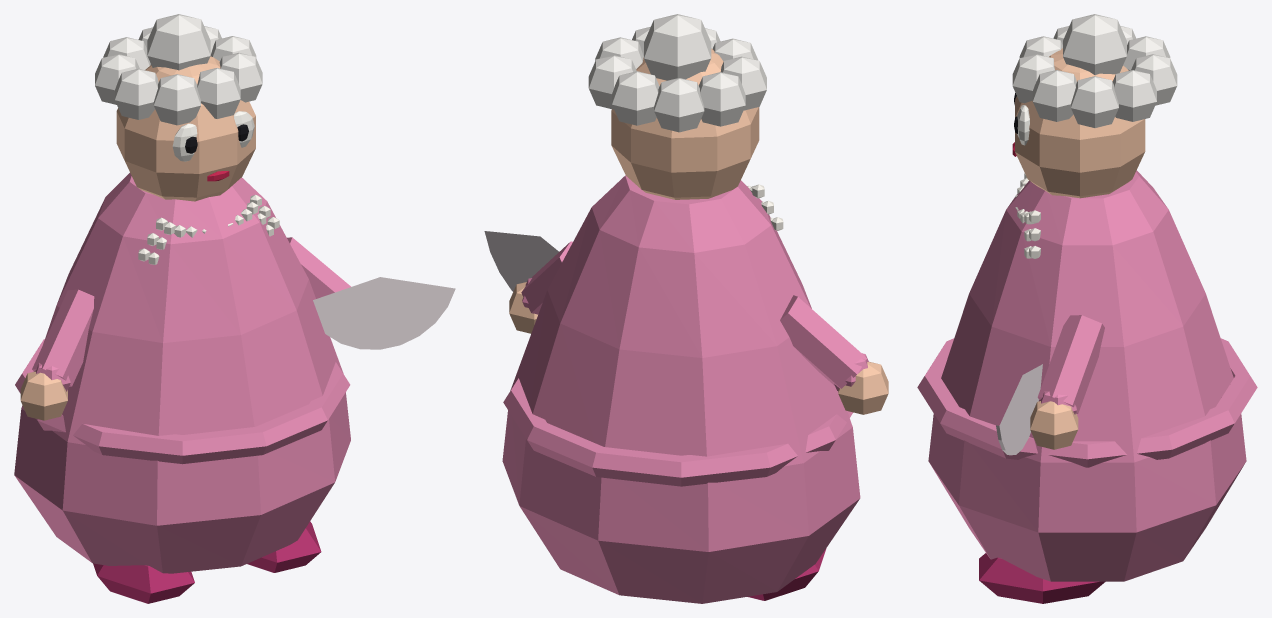
Rendered from npc_ofelia.glb.
3 renders of one model, left to right at view 1: azimuth 30°, elevation 25°; view 2: azimuth 150°, elevation 25°; view 3: azimuth 270°, elevation 25°, orthographic. The views are drawn at different scales.
Parts seen in each view (by area): view 1: body_ofelia_silk, head_hair_white, head_skin_rosada, props_ofelia_lace, arms_ofelia_silk, legs_slipper, arms_skin_rosada, face_white; view 2: body_ofelia_silk, head_hair_white, head_skin_rosada, arms_ofelia_silk, arms_skin_rosada, props_ofelia_lace, legs_slipper; view 3: body_ofelia_silk, head_hair_white, head_skin_rosada, arms_ofelia_silk, legs_slipper, props_ofelia_lace, arms_skin_rosada.
Boxes of the visible parts, bbox=[...] form: body_ofelia_silk: bbox=[14, 173, 350, 573]; head_hair_white: bbox=[95, 14, 262, 125]; head_skin_rosada: bbox=[116, 56, 255, 201]; props_ofelia_lace: bbox=[313, 277, 455, 349]; arms_ofelia_silk: bbox=[32, 237, 350, 391]; legs_slipper: bbox=[93, 521, 321, 603]; arms_skin_rosada: bbox=[20, 371, 67, 420]; face_white: bbox=[172, 111, 254, 161]; body_ofelia_silk: bbox=[502, 175, 860, 603]; head_hair_white: bbox=[588, 14, 766, 132]; head_skin_rosada: bbox=[611, 48, 759, 199]; arms_ofelia_silk: bbox=[521, 241, 868, 390]; arms_skin_rosada: bbox=[509, 282, 888, 414]; props_ofelia_lace: bbox=[484, 231, 558, 291]; legs_slipper: bbox=[747, 548, 826, 600]; body_ofelia_silk: bbox=[917, 170, 1257, 581]; head_hair_white: bbox=[1012, 14, 1177, 127]; head_skin_rosada: bbox=[1015, 48, 1145, 198]; arms_ofelia_silk: bbox=[1037, 315, 1104, 414]; legs_slipper: bbox=[979, 553, 1105, 603]; props_ofelia_lace: bbox=[996, 364, 1042, 455]; arms_skin_rosada: bbox=[1030, 401, 1078, 449].
Bounding box in the file's own units: 1.29 × 1.64 × 0.92.
